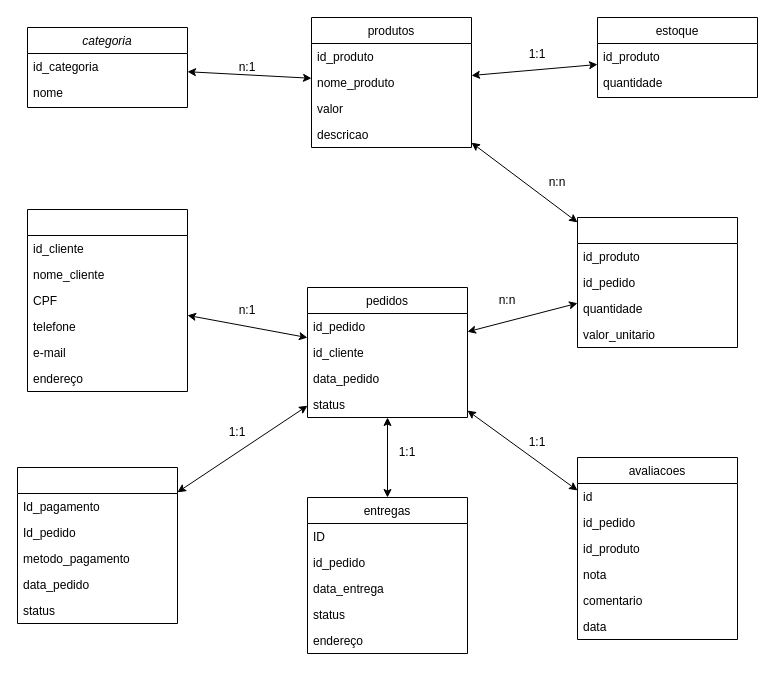
This 775x674 diagram has some shape labels left out. Here are the shapes that lost their labels. From the top down, the box of each, then its label:
(26, 208, 188, 392): clientes
(576, 216, 738, 348): itens_pedido
(16, 466, 178, 624): pagamentos
